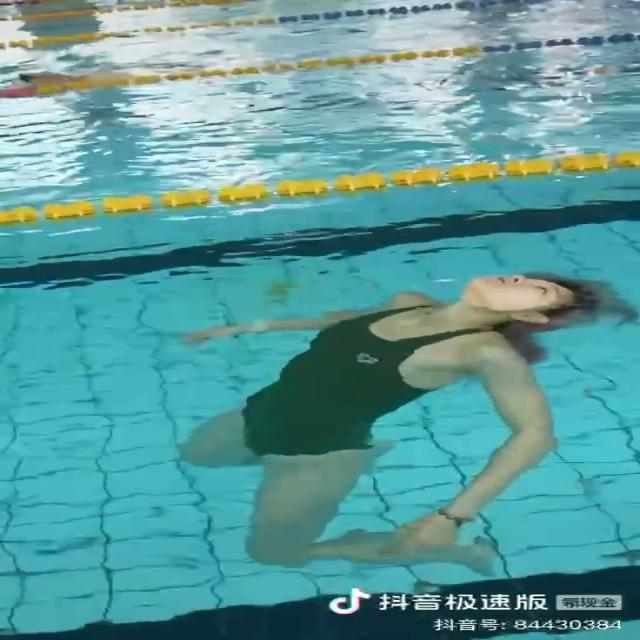Drowning: (176, 270, 598, 574)
